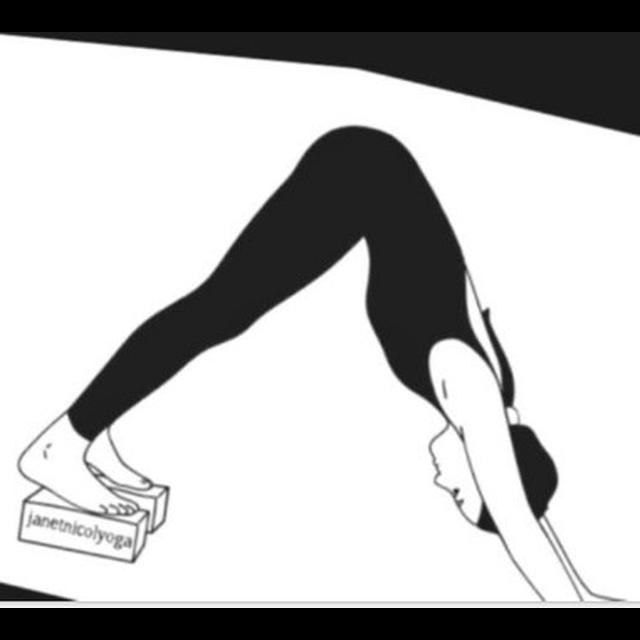Downward-Facing_Dog: (3, 121, 621, 606)
